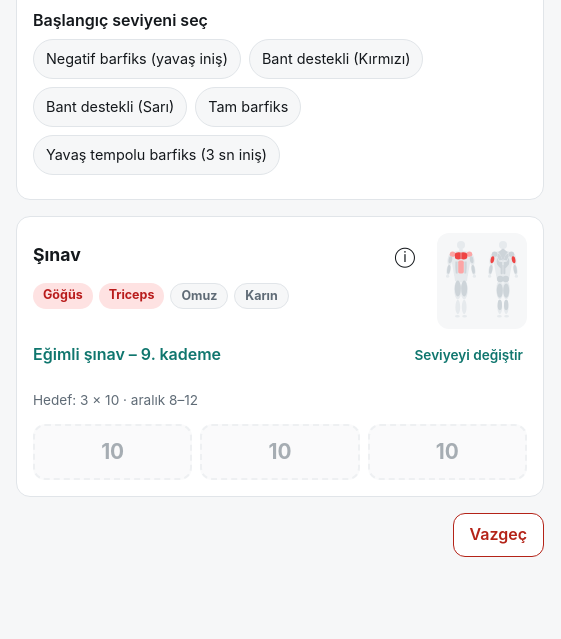
it: Vazgeç onaylanınca oturum silinir ve sıra değişmez
This screenshot has width=561, height=639.
(page scrolled)
Click the button "Vazgeç": {"x": 498, "y": 535} [452,513,544,557]
(page scrolled)
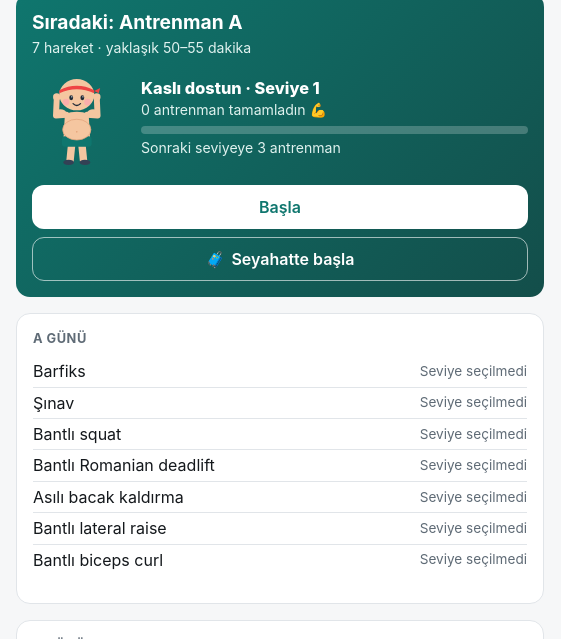
expect the heading "Sıradaki: Antrenman A" is shown: met, box [32,10,242,34]
